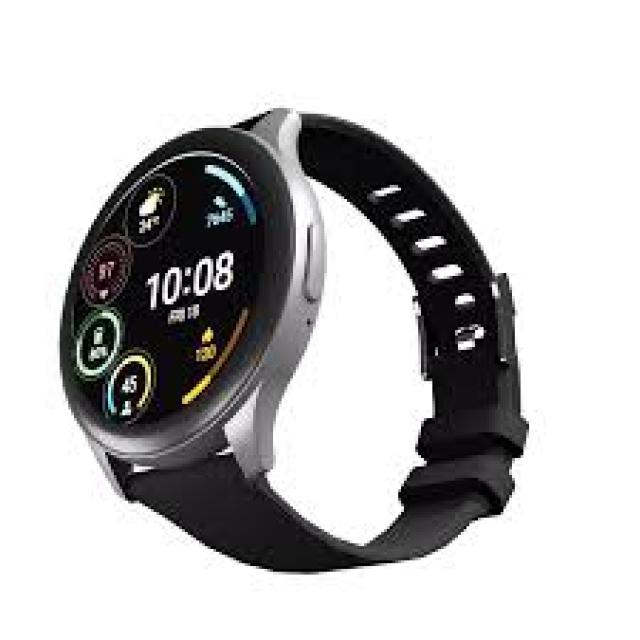objects: (63, 108, 526, 569), (63, 128, 319, 464)
